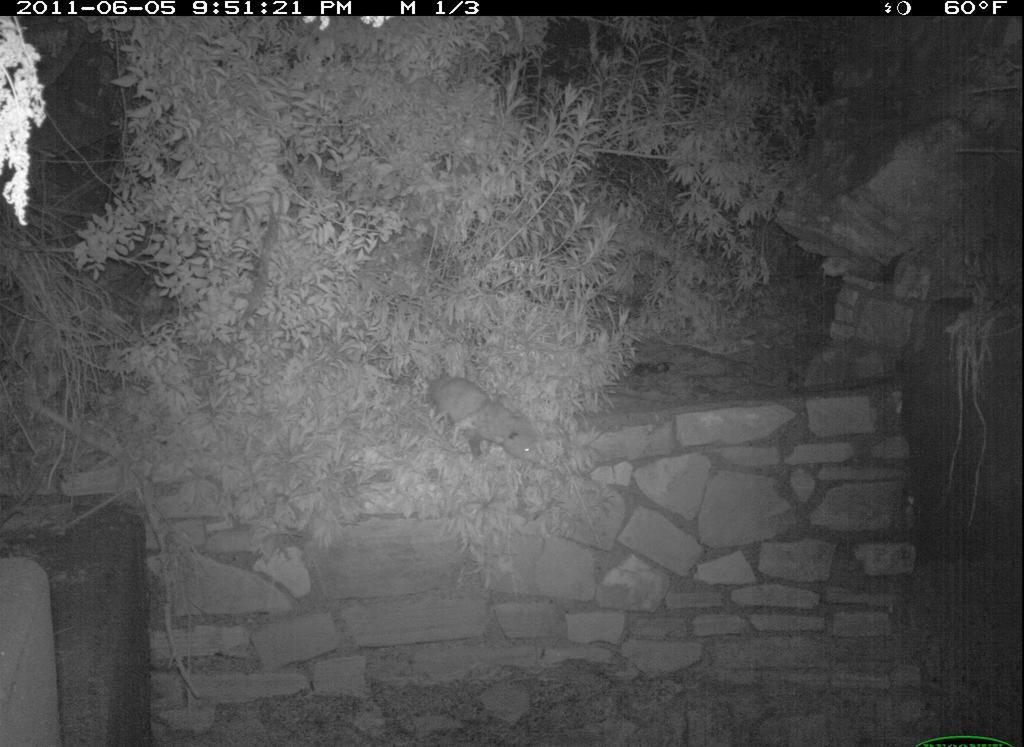opossum: (428, 362, 547, 473)
